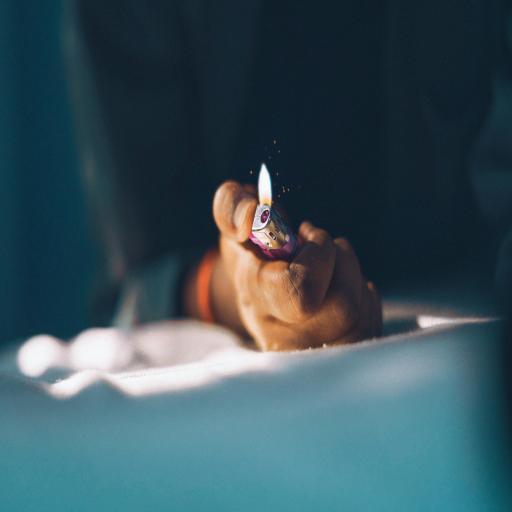lighter: (215, 144, 334, 302)
